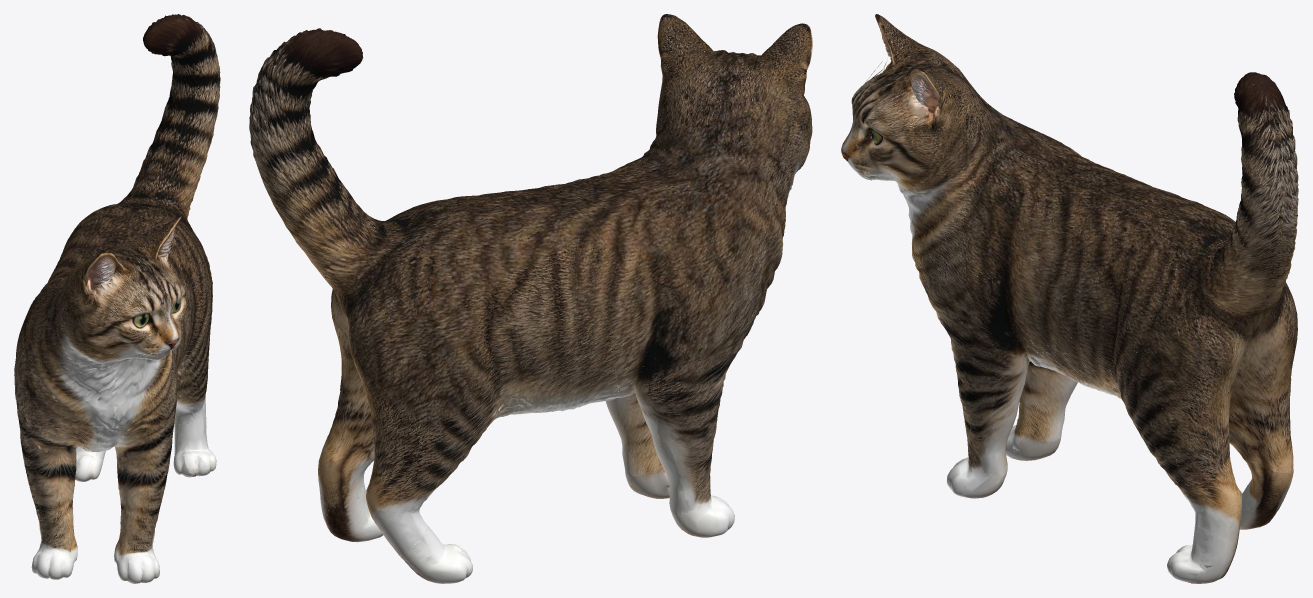
The model's file is cat.glb.
3 views of the same model, side by side, from view 1: azimuth 30°, elevation 25°; view 2: azimuth 150°, elevation 25°; view 3: azimuth 270°, elevation 25° (orthographic). The views are drawn at different scales.
Parts seen in each view (by area): view 1: cat; view 2: cat; view 3: cat.
Boxes of the visible parts, x1,y1,x2,y2 form: cat: [14, 14, 220, 583]; cat: [249, 14, 812, 583]; cat: [841, 14, 1298, 583].
Bounding box in the file's own units: 0.3736 × 0.5 × 0.4147.
1 material, 1 textured.
